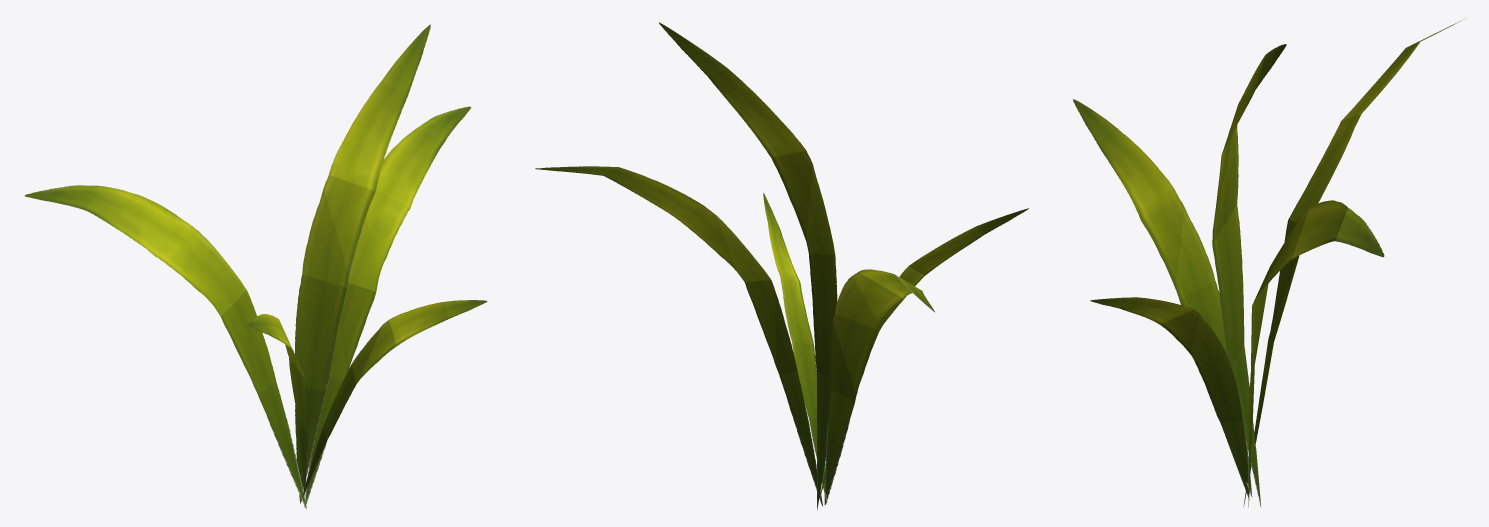
Rendered from outdoorM_grass_b.FBX.
3 views of the same model, side by side, from view 1: azimuth 30°, elevation 25°; view 2: azimuth 150°, elevation 25°; view 3: azimuth 270°, elevation 25° (orthographic). The views are drawn at different scales.
Parts seen in each view (by area): view 1: outdoorM_grass_b; view 2: outdoorM_grass_b; view 3: outdoorM_grass_b.
Boxes of the visible parts, x1=… form: outdoorM_grass_b: x1=25, y1=24, x2=487, y2=508; outdoorM_grass_b: x1=535, y1=22, x2=1028, y2=510; outdoorM_grass_b: x1=1073, y1=18, x2=1465, y2=507.
Size of the model in its own units: 4.47 by 4.46 by 2.93.
